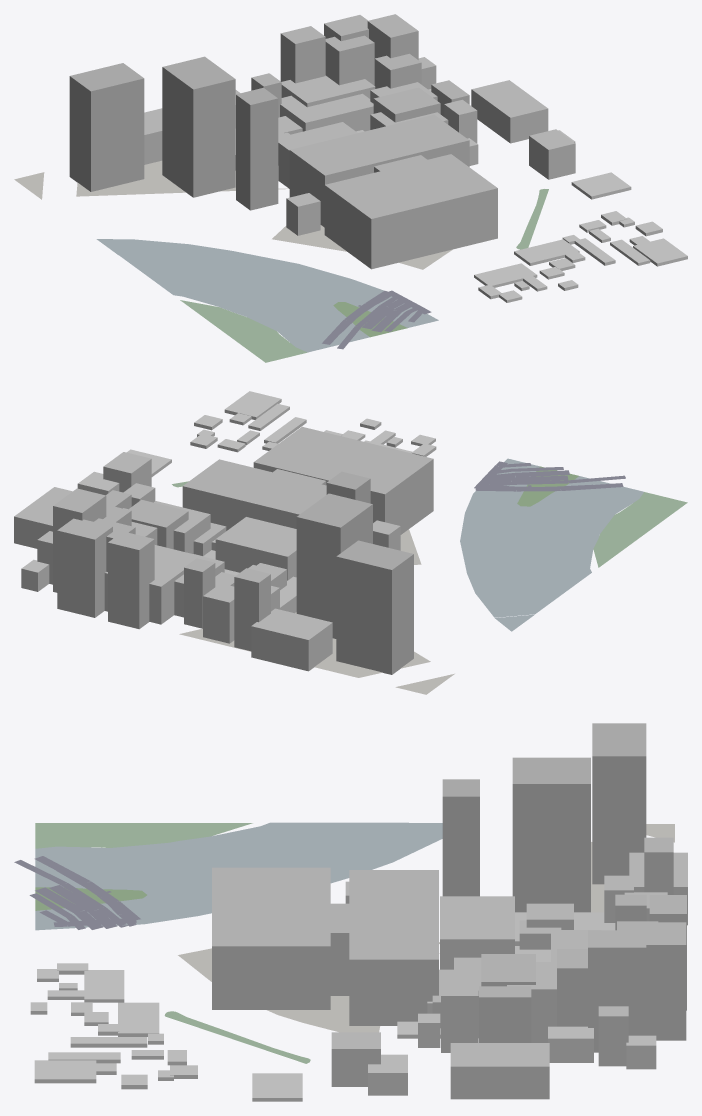
Rendered from 123_77_mid.glb.
3 views of the same model, one above another, from view 1: azimuth 30°, elevation 25°; view 2: azimuth 150°, elevation 25°; view 3: azimuth 270°, elevation 25° (orthographic). The views are drawn at different scales.
Bounding box in the file's own units: 517 × 119 × 527.
